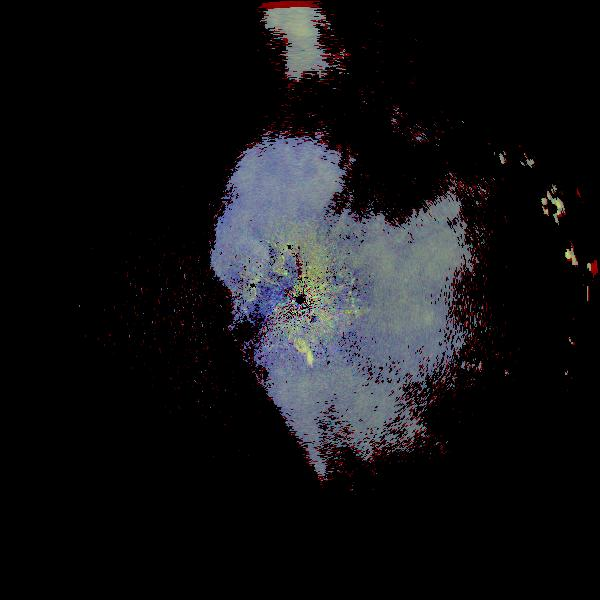roost: (255, 327, 327, 399)
